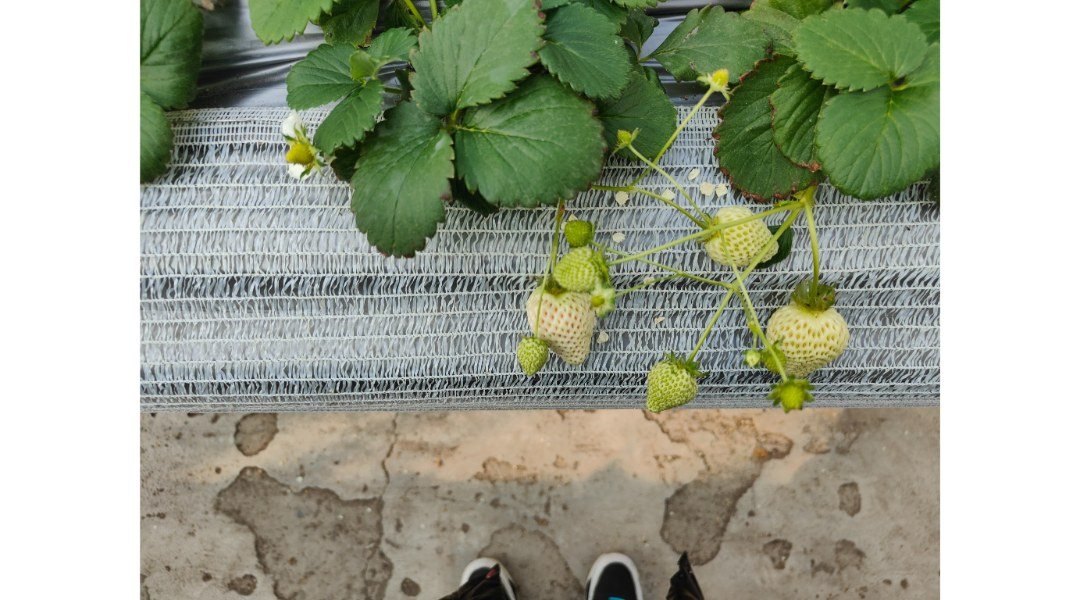berry: (767, 279, 850, 385), (521, 276, 599, 375), (695, 202, 781, 269), (643, 343, 704, 420), (764, 372, 812, 413), (509, 337, 555, 378), (802, 201, 817, 291), (610, 124, 641, 157), (700, 66, 733, 96), (563, 218, 596, 246)
flower: (272, 111, 316, 187)
strain: (654, 91, 711, 164), (609, 234, 689, 270), (689, 289, 730, 359), (647, 262, 727, 283)
